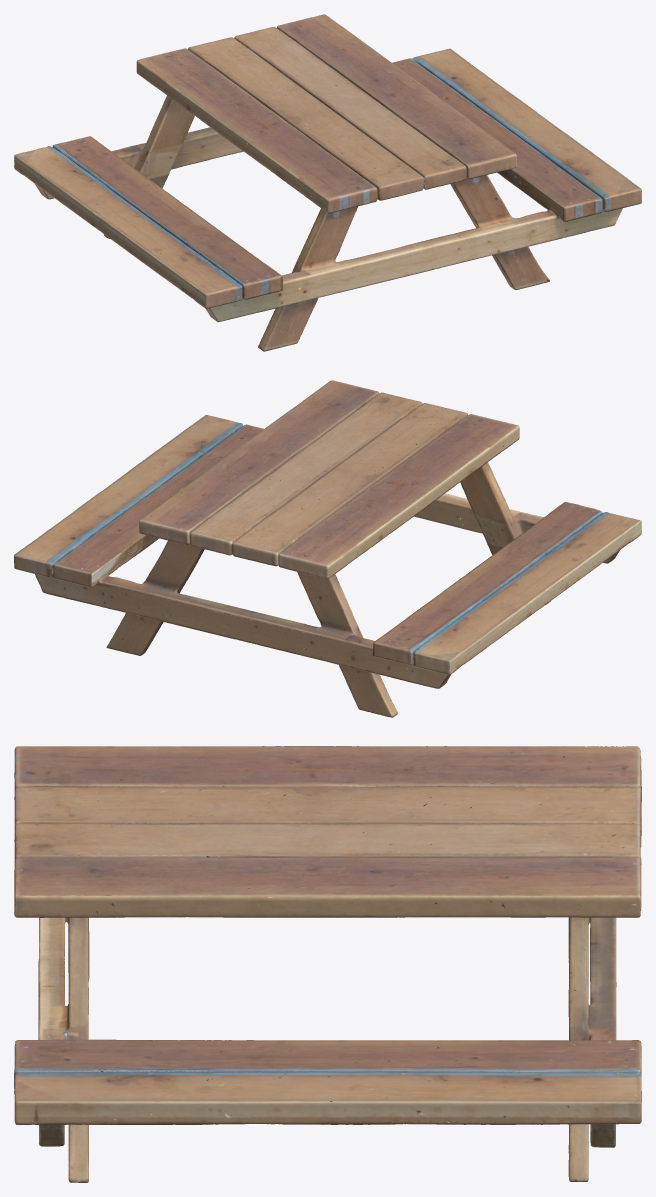
The model's file is picnic_table.glb.
The picture shows the model from 3 angles, top to bottom: view 1: azimuth 30°, elevation 25°; view 2: azimuth 150°, elevation 25°; view 3: azimuth 270°, elevation 25°; orthographic projection. The views are drawn at different scales.
Size of the model in its own units: 2 by 0.6699 by 1.53.
1 material, 1 textured.
